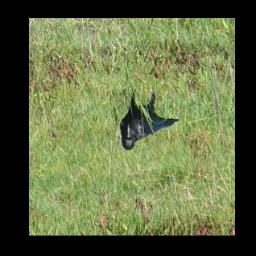Crow: (120, 88, 181, 151)
